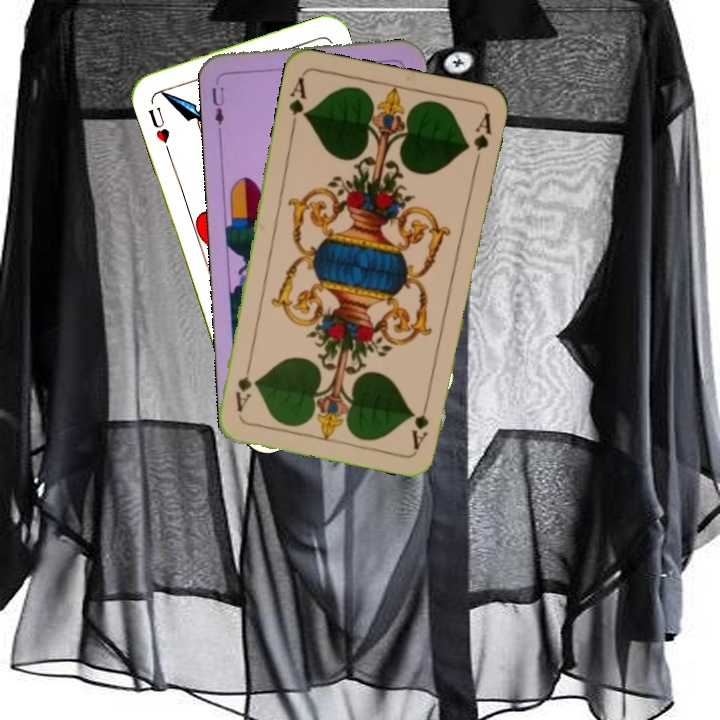EU: (207, 75, 227, 127)
GA: (284, 73, 310, 132), (408, 393, 432, 452)
HU: (144, 103, 173, 154)
